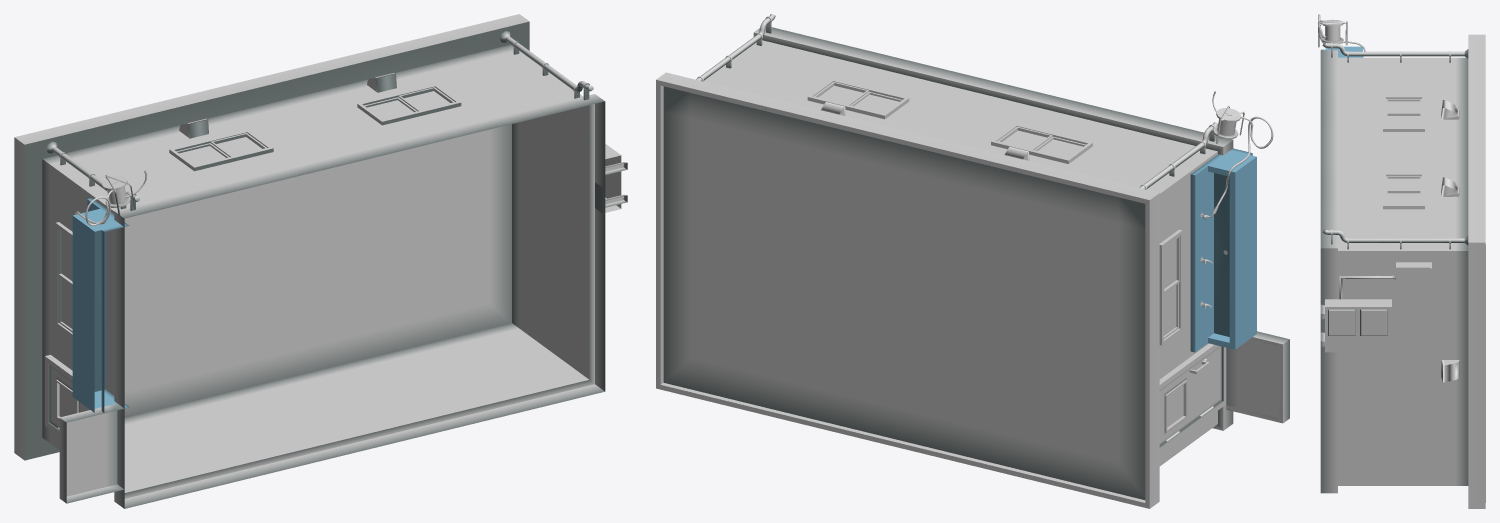
File: SM_000402_merge_w40h019_A1_wall_lv1.fbx
The picture shows the model from 3 angles, left to right: view 1: azimuth 30°, elevation 25°; view 2: azimuth 150°, elevation 25°; view 3: azimuth 270°, elevation 25°; orthographic projection. The views are drawn at different scales.
Parts seen in each view (by area): view 1: SM_000402.001; view 2: SM_000402.001; view 3: SM_000402.001.
Boxes of the visible parts, x1,y1,x2,y2 form: SM_000402.001: (14, 14, 627, 508); SM_000402.001: (656, 14, 1289, 508); SM_000402.001: (1318, 14, 1485, 508).
Bounding box in the file's own units: 11.08 × 6.56 × 3.4.
